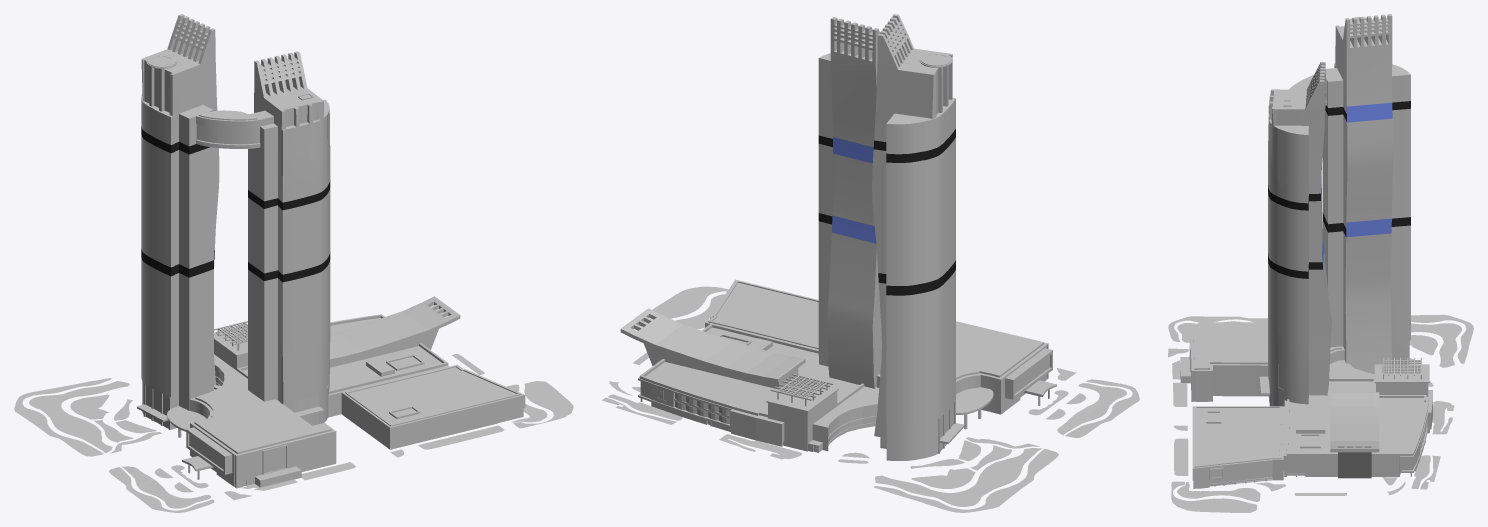
Rendered from NationTowers.fbx.
3 renders of one model, left to right at view 1: azimuth 30°, elevation 25°; view 2: azimuth 150°, elevation 25°; view 3: azimuth 270°, elevation 25°, orthographic. The views are drawn at different scales.
Parts seen in each view (by area): view 1: Object002, Object001, Plane.010, Plane.009, Plane, Object003, Plane.001, Plane.004, Object, Plane.007, Plane.003, Plane.024 (+3 smaller); view 2: Object001, Object002, Plane.009, Plane.010, Plane.004, Plane, Plane.001, Object006, Plane.023, Object, Object008, Cube (+4 smaller); view 3: Object001, Object002, Plane.009, Plane.010, Plane, Object006, Plane.004, Object005, Plane.007, Plane.001, Object008, Plane.023 (+3 smaller).
Part boxes in pixels (x1,y1,x2,y2): Object002: (248, 61, 330, 425); Object001: (141, 29, 219, 429); Plane.010: (14, 354, 573, 512); Plane.009: (214, 314, 524, 427); Plane: (190, 384, 335, 487); Object003: (328, 392, 525, 449); Plane.001: (137, 14, 214, 429); Plane.004: (330, 296, 460, 362); Object: (189, 399, 336, 488); Plane.007: (255, 51, 329, 417); Plane.003: (195, 110, 273, 148); Plane.024: (196, 124, 259, 144); Object001: (872, 35, 955, 460); Object002: (818, 19, 881, 388); Plane.009: (638, 279, 879, 450); Plane.010: (602, 286, 1139, 512); Plane.004: (620, 308, 805, 382); Plane: (876, 321, 1048, 387); Plane.001: (878, 14, 964, 453); Object006: (730, 404, 877, 451); Plane.023: (768, 398, 828, 444); Object: (956, 344, 1048, 414); Object008: (644, 343, 778, 389); Cube: (770, 374, 833, 406); Object001: (1322, 16, 1410, 372); Object002: (1268, 68, 1331, 406); Plane.009: (1192, 360, 1432, 488); Plane.010: (1168, 314, 1473, 512); Plane: (1180, 324, 1344, 401); Object006: (1192, 401, 1432, 488); Plane.004: (1330, 392, 1379, 452); Object005: (1191, 365, 1278, 401); Plane.007: (1259, 62, 1325, 394); Plane.001: (1325, 14, 1410, 373); Object008: (1338, 452, 1371, 478); Plane.023: (1376, 383, 1428, 396).
Size of the model in its own units: 29502 by 25249 by 19238.
